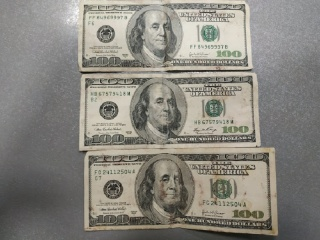cash: (85, 148, 278, 236), (77, 71, 262, 152), (78, 1, 253, 71)
